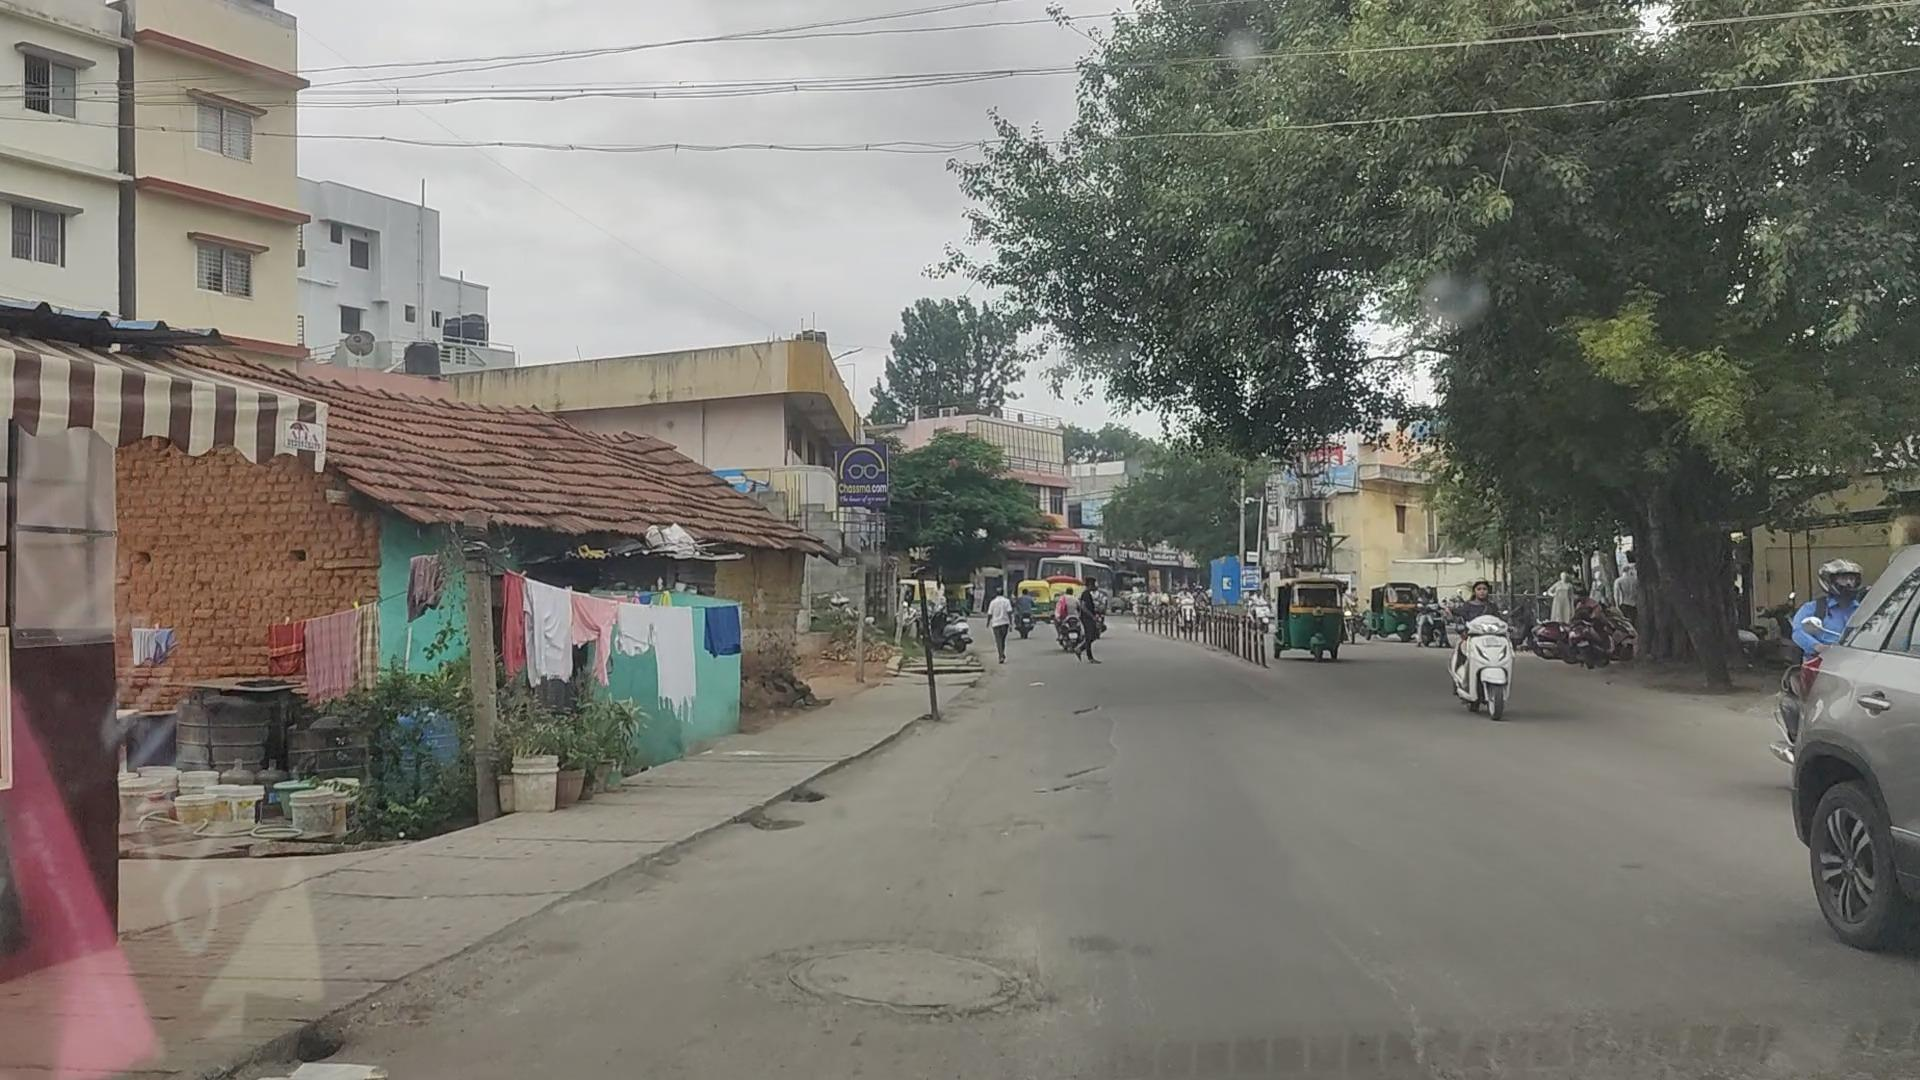RoadDamages: (742, 924, 1080, 1044), (306, 936, 549, 1052), (996, 773, 1124, 840), (740, 783, 831, 836), (1056, 700, 1122, 749)
